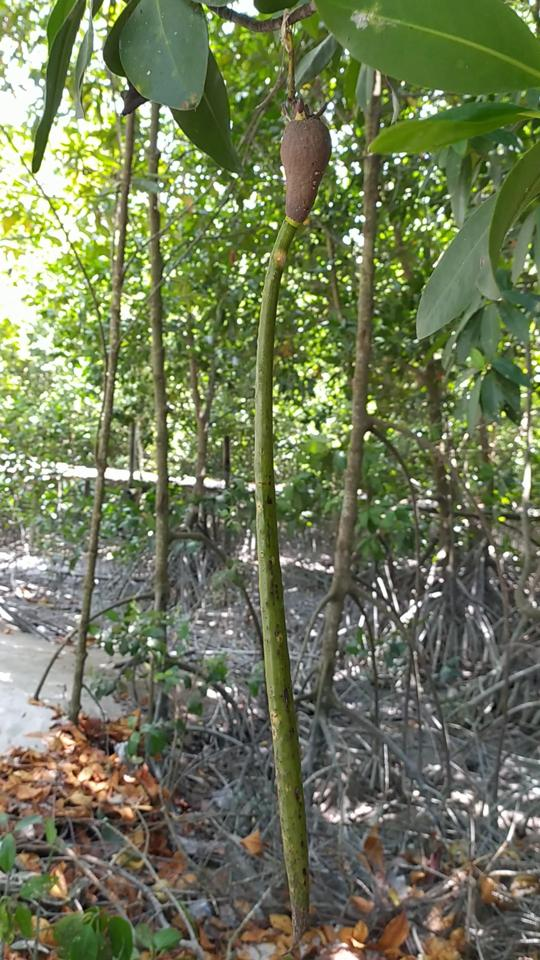setengah matang: (250, 90, 339, 940)
